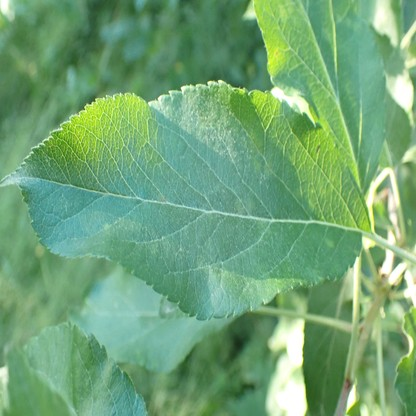scab: (237, 197, 255, 214), (265, 162, 273, 180), (324, 236, 336, 247), (156, 194, 167, 202)
